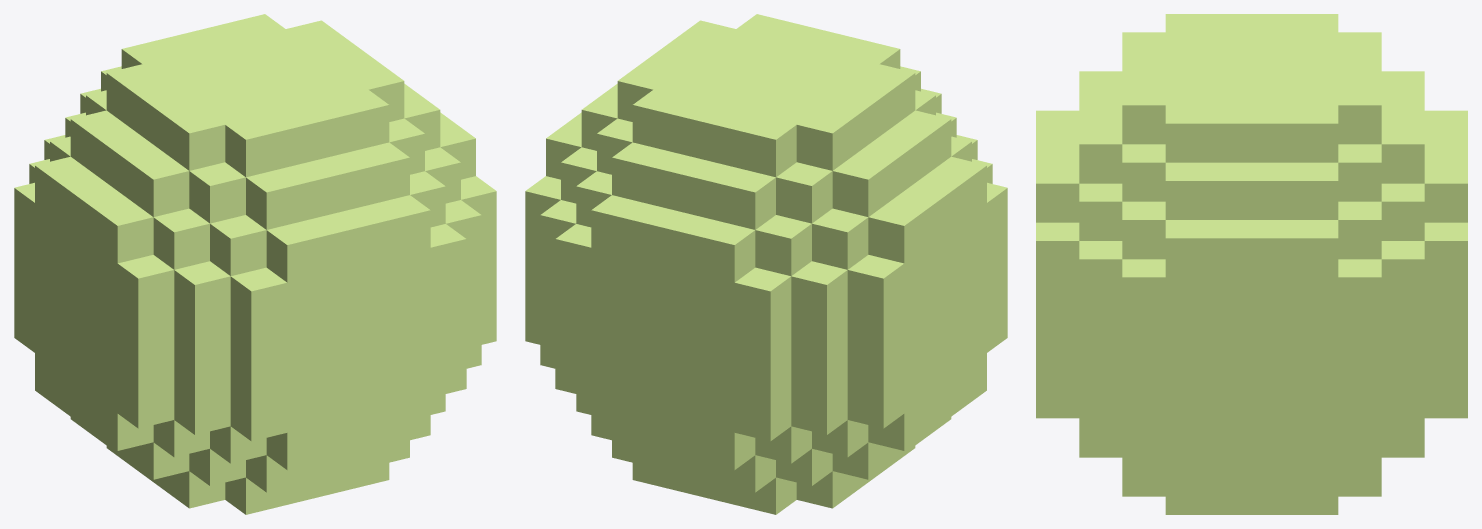
File: puntos.fbx
3 views of the same model, side by side, from view 1: azimuth 30°, elevation 25°; view 2: azimuth 150°, elevation 25°; view 3: azimuth 270°, elevation 25° (orthographic). The views are drawn at different scales.
Visible parts, largest first — view 1: Sphere; view 2: Sphere; view 3: Sphere.
Boxes of the visible parts, x1=… form: Sphere: x1=14, y1=14, x2=496, y2=514; Sphere: x1=525, y1=14, x2=1007, y2=514; Sphere: x1=1036, y1=14, x2=1467, y2=514.
Size of the model in its own units: 10 by 10 by 10.
1 material, 1 textured.
